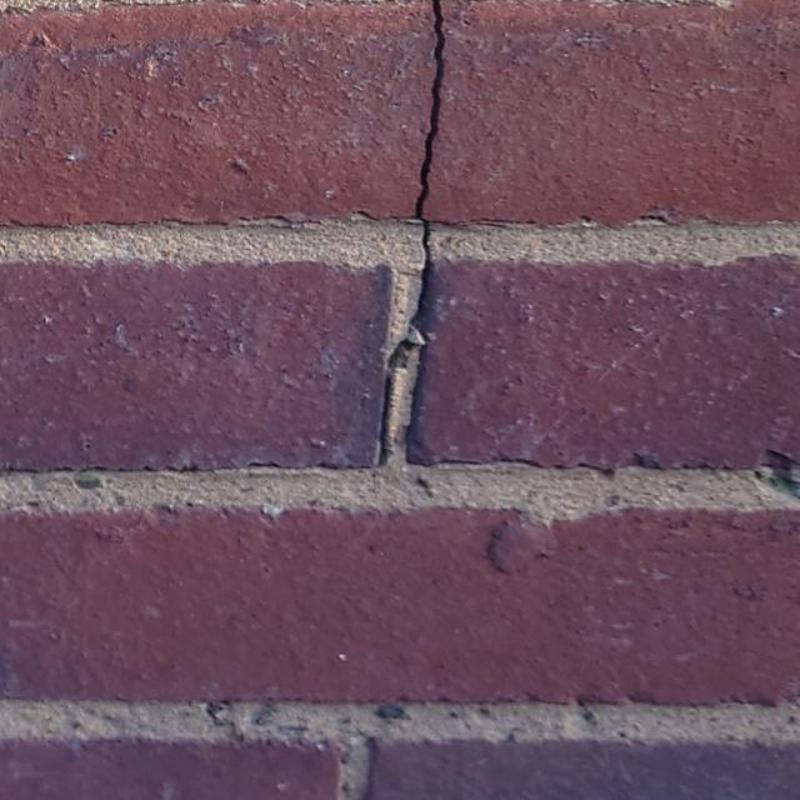pothole: (409, 0, 445, 338), (381, 338, 412, 462)
